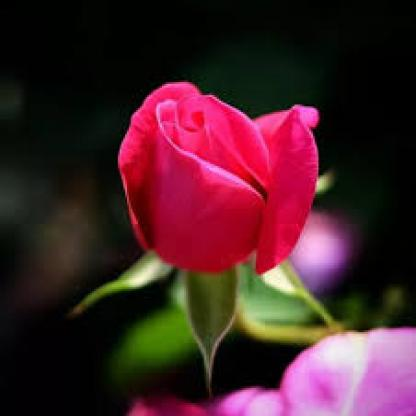Rose-Mawar: (108, 70, 329, 281)
